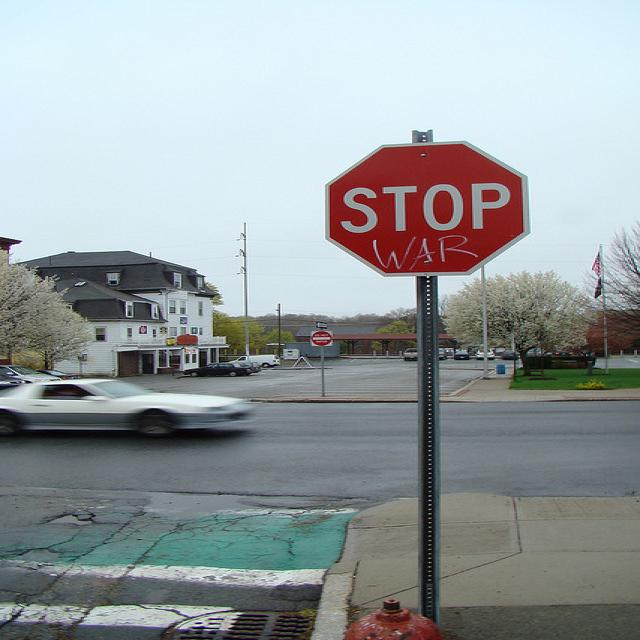Vehicle: (0, 378, 259, 438), (525, 349, 597, 368), (0, 365, 62, 384), (184, 362, 261, 377), (230, 355, 281, 368), (32, 368, 84, 380), (474, 350, 496, 360), (400, 348, 418, 360), (572, 350, 596, 358), (501, 350, 520, 360), (454, 351, 469, 360), (439, 347, 448, 360)
